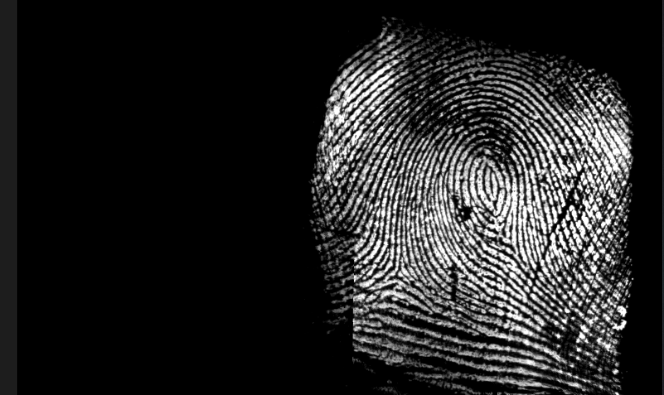nucelo: (471, 153, 507, 208)
verticilo: (380, 261, 407, 287), (497, 229, 523, 252)
